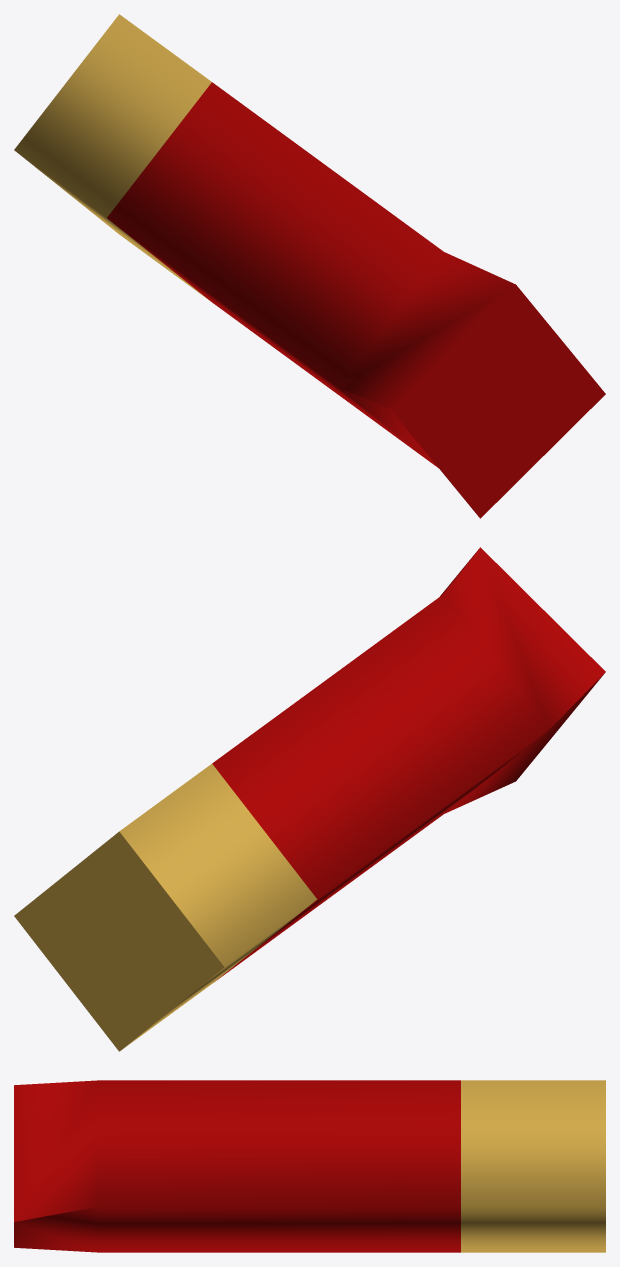
Rendered from FxEmpty12Gauge.FBX.
3 renders of one model, top to bottom at view 1: azimuth 30°, elevation 25°; view 2: azimuth 150°, elevation 25°; view 3: azimuth 270°, elevation 25°, orthographic. The views are drawn at different scales.
Visible parts, largest first — view 1: FxEmpty12Gauge; view 2: FxEmpty12Gauge; view 3: FxEmpty12Gauge.
Part boxes in pixels (x1,y1,x2,y2): FxEmpty12Gauge: (14,14,605,518); FxEmpty12Gauge: (14,547,605,1051); FxEmpty12Gauge: (14,1080,605,1252).
Bounding box in the file's own units: 2.68 × 2.68 × 8.17.
